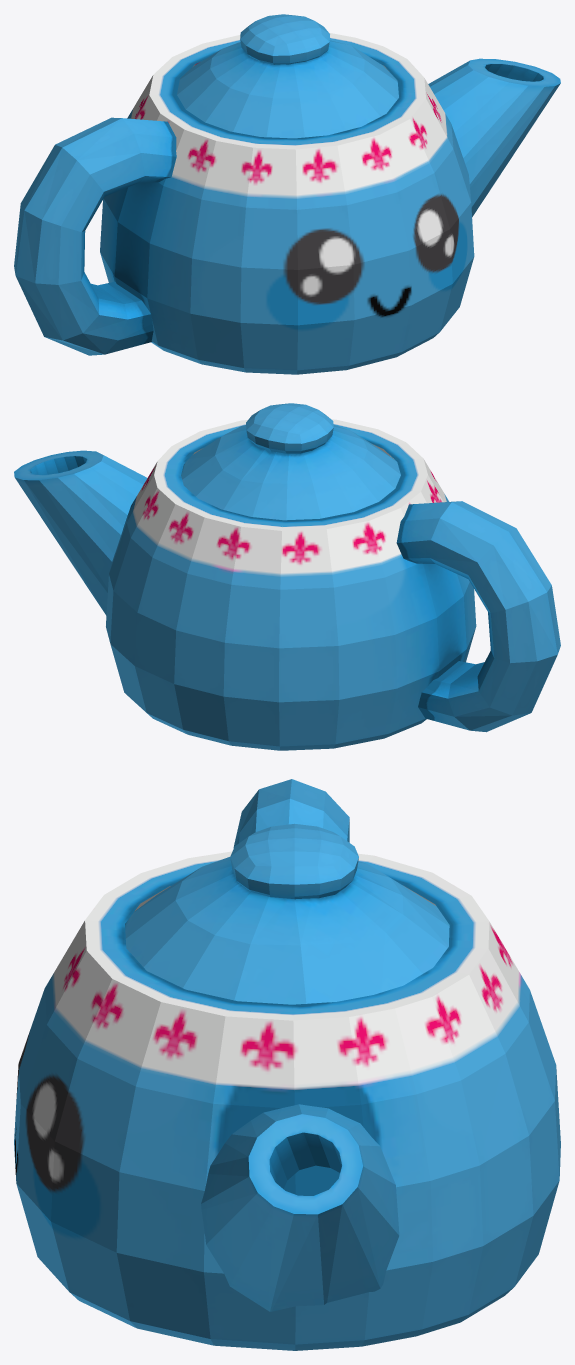
The model's file is teapot.fbx.
3 renders of one model, top to bottom at view 1: azimuth 30°, elevation 25°; view 2: azimuth 150°, elevation 25°; view 3: azimuth 270°, elevation 25°, orthographic. The views are drawn at different scales.
Parts seen in each view (by area): view 1: teapot; view 2: teapot; view 3: teapot.
Boxes of the visible parts, box(x1,y1,x2,y2) form: teapot: box(14, 14, 560, 374); teapot: box(14, 403, 560, 750); teapot: box(14, 779, 560, 1350).
Size of the model in its own units: 101 by 49.83 by 59.49.
